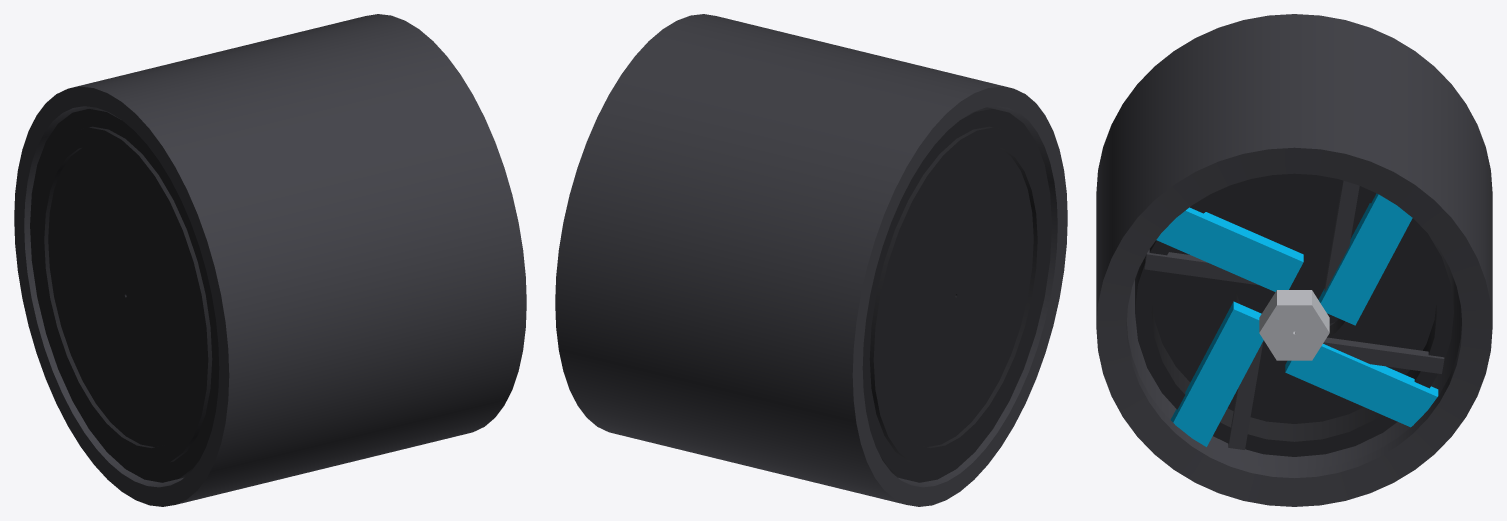
The model's file is shuriken_rear.glb.
3 views of the same model, side by side, from view 1: azimuth 30°, elevation 25°; view 2: azimuth 150°, elevation 25°; view 3: azimuth 270°, elevation 25° (orthographic). The views are drawn at different scales.
Visible parts, largest first — view 1: Rim_shuriken_rear; view 2: Rim_shuriken_rear; view 3: Rim_shuriken_rear.
Part boxes in pixels (x1,y1,x2,y2): Rim_shuriken_rear: (14,14,526,506); Rim_shuriken_rear: (555,14,1067,506); Rim_shuriken_rear: (1096,14,1492,506).
Bounding box in the file's own units: 0.393 × 0.472 × 0.472.
